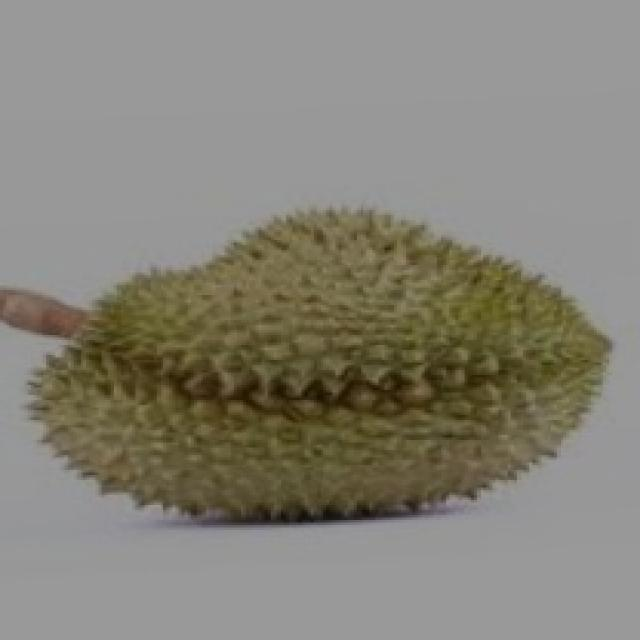fruit: (0, 170, 391, 560), (274, 188, 637, 550)
